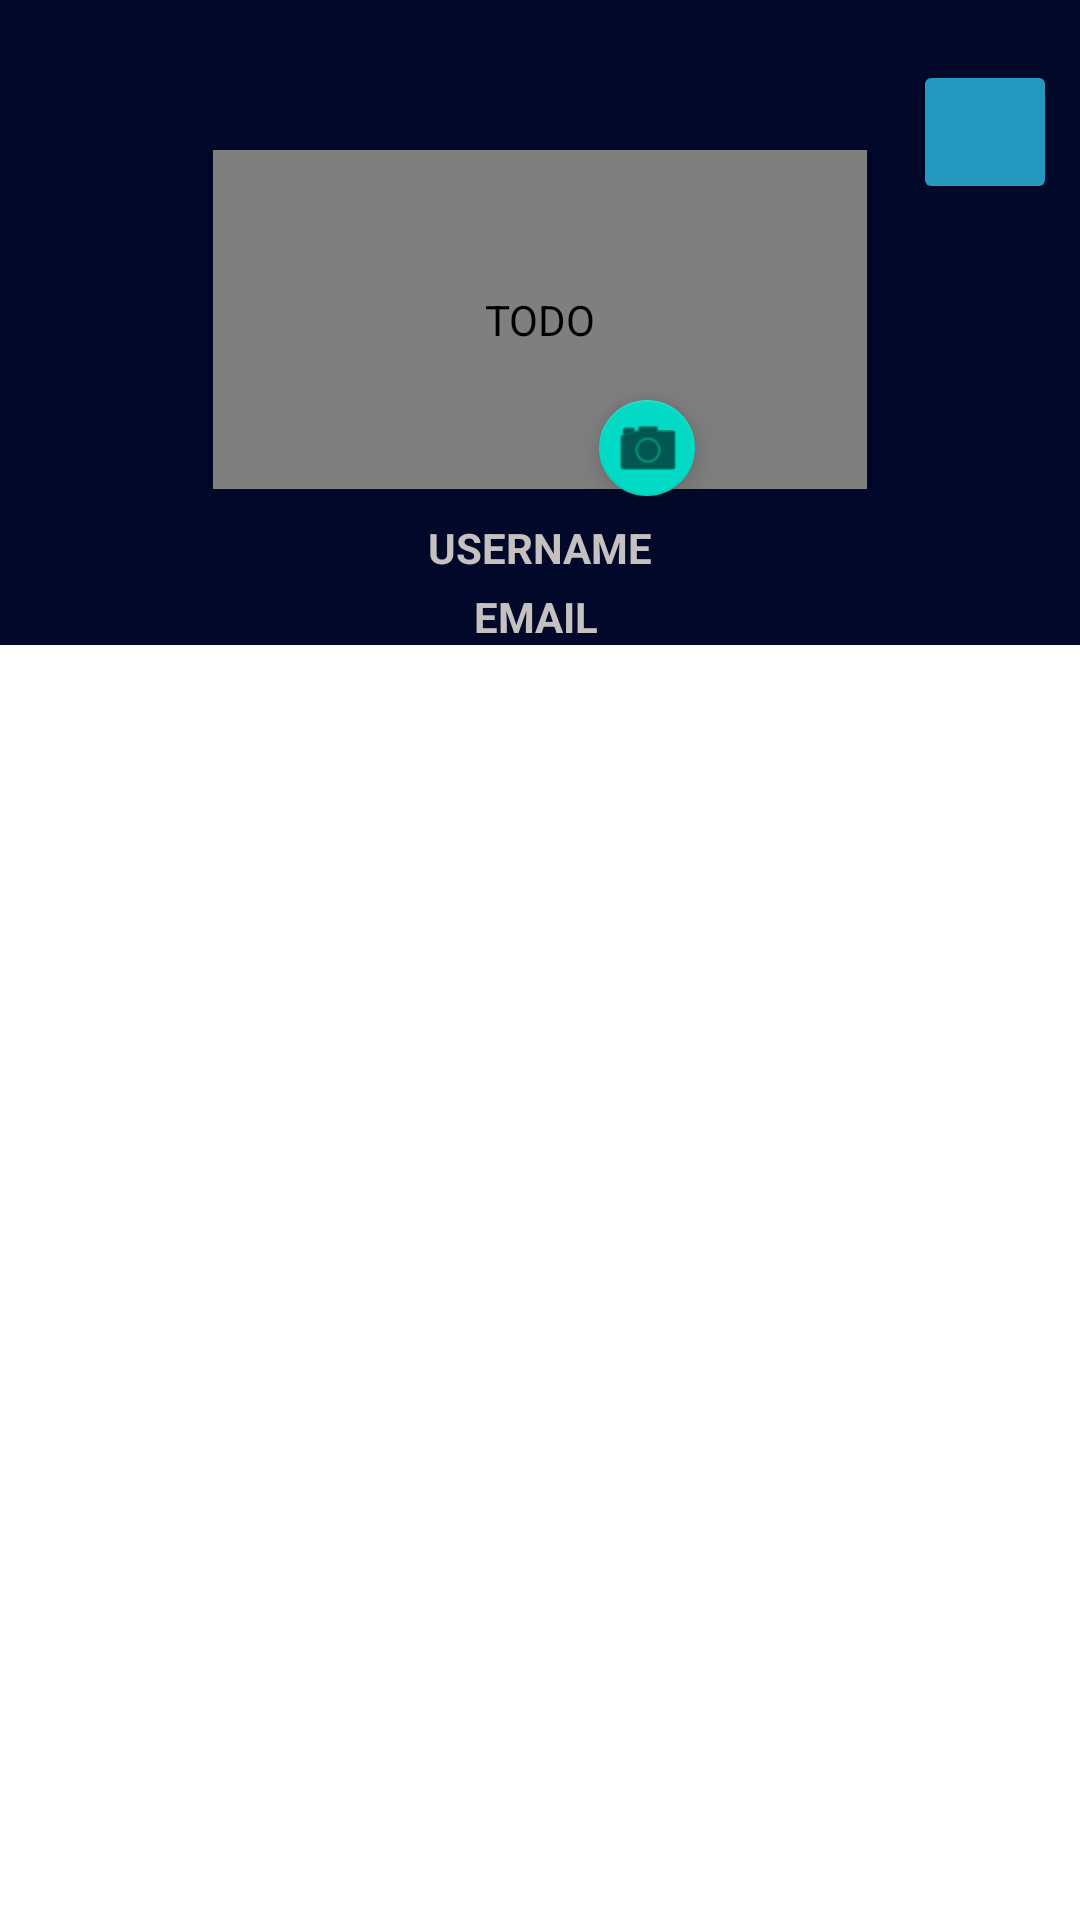

Icon bounding boxes for this 1080 × 1920 phone screenshot, format (x1, y1, x2, y2):
camera: (577, 400, 717, 518)
